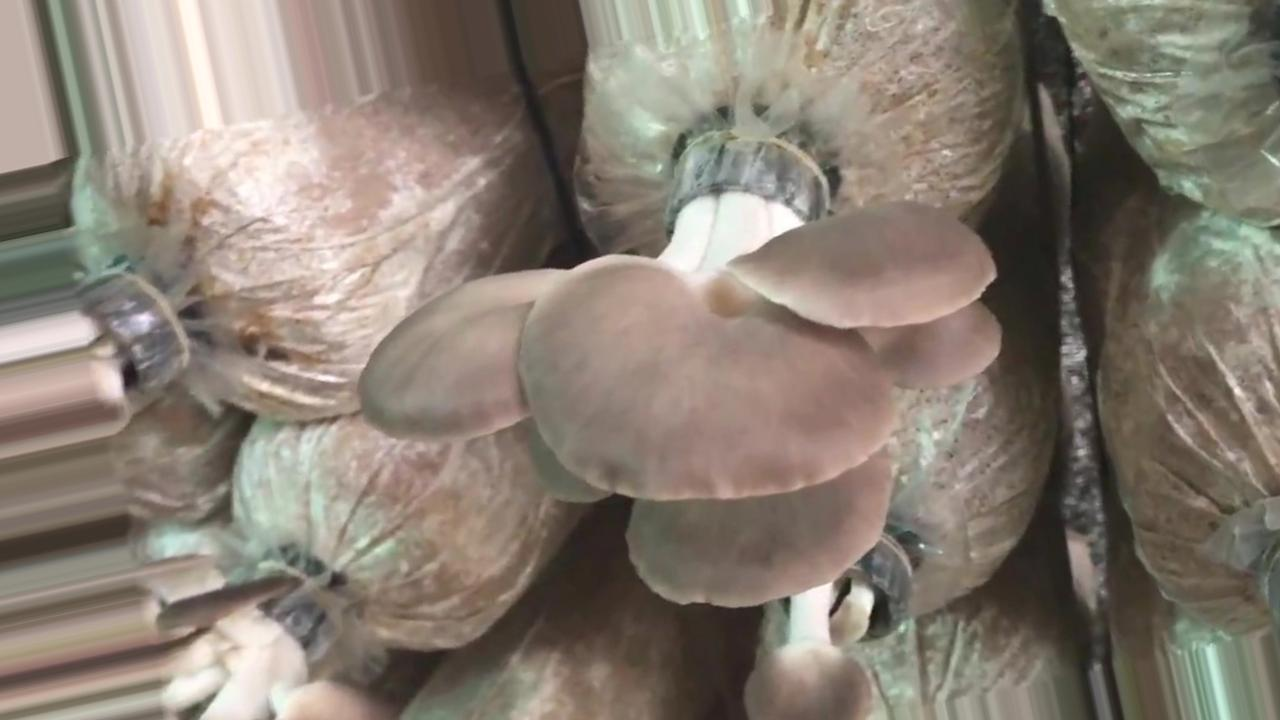nam: (362, 142, 1002, 606), (1, 561, 365, 720), (1, 271, 205, 455), (747, 541, 913, 716)
